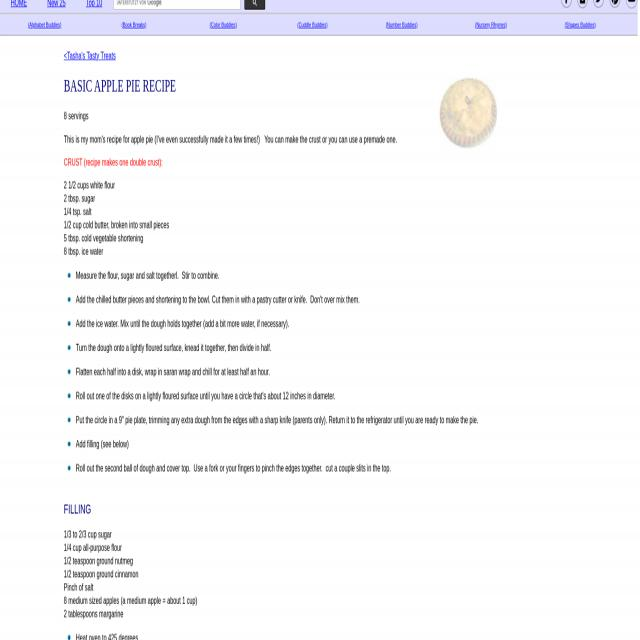button: (439, 78, 497, 150), (245, 0, 265, 9), (624, 0, 640, 8), (559, 0, 574, 8), (577, 0, 588, 10), (608, 0, 622, 7), (591, 0, 604, 7)
field: (115, 0, 240, 10)
